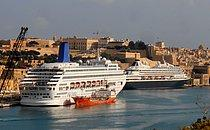Ship: (18, 57, 131, 111), (120, 59, 196, 93)
